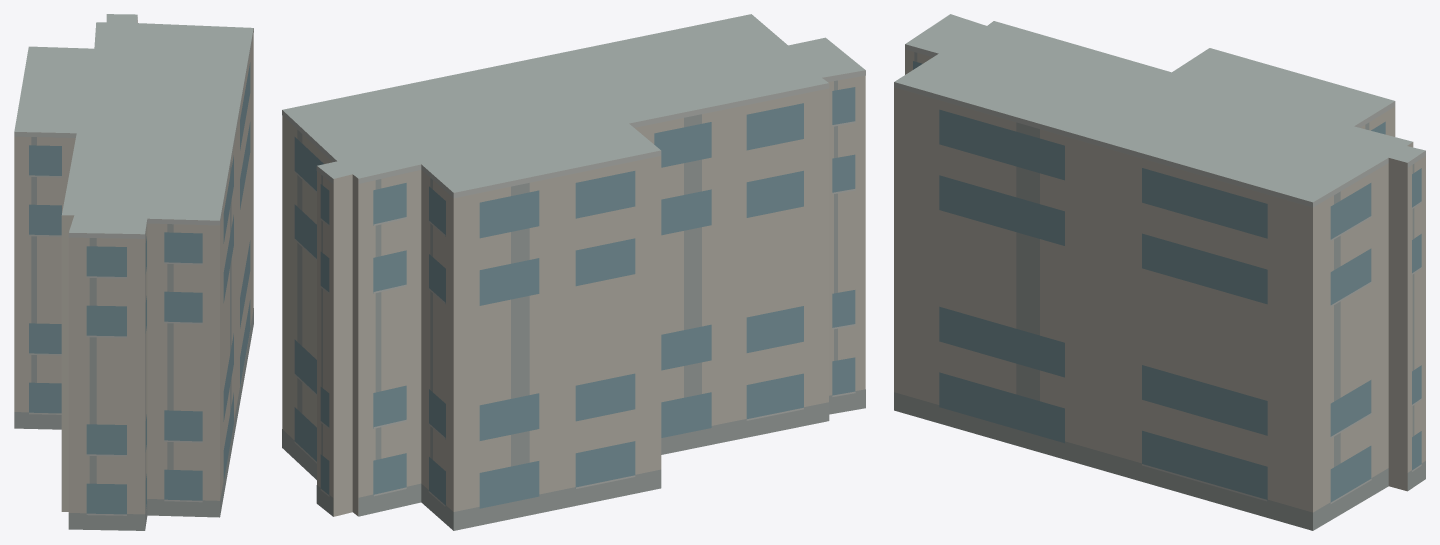
Rendered from survey-upis-32792594.glb.
3 views of the same model, side by side, from view 1: azimuth 30°, elevation 25°; view 2: azimuth 150°, elevation 25°; view 3: azimuth 270°, elevation 25° (orthographic). The views are drawn at different scales.
Parts seen in each view (by area): view 1: survey-upis-32792594.tmp; view 2: survey-upis-32792594.tmp; view 3: survey-upis-32792594.tmp.
Boxes of the visible parts, <box> form: survey-upis-32792594.tmp: <box>14,14,253,530</box>; survey-upis-32792594.tmp: <box>282,14,865,530</box>; survey-upis-32792594.tmp: <box>894,14,1425,530</box>.
Bounding box in the file's own units: 18.76 × 15.25 × 22.38.
